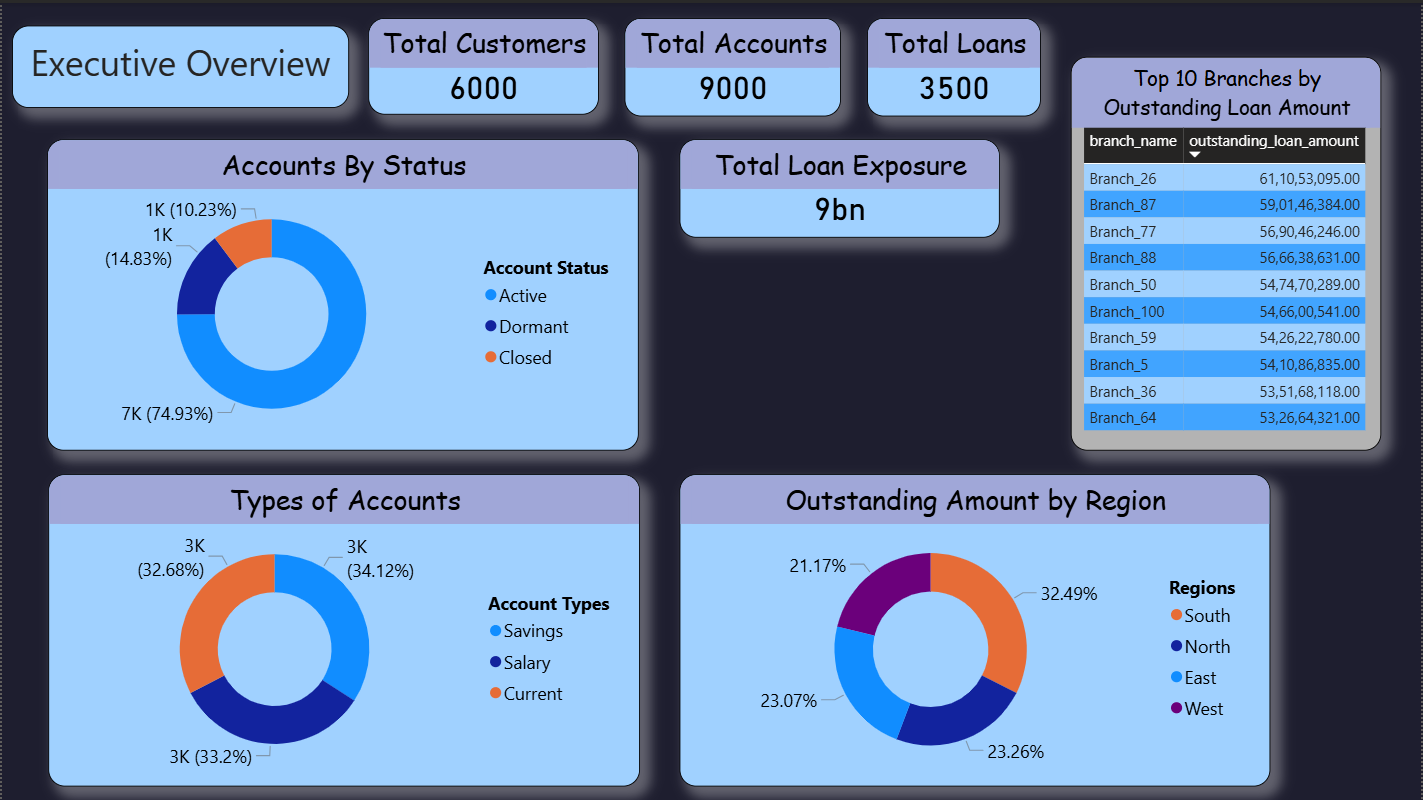

What the dashboard file says about the page in this screenshot:
{"tool":"powerbi","page":{"name":"Executive Overview","canvas":[1280,720],"ordinal":0},"visuals":[{"type":"card","title":"Total Loan Exposure","fields":{"Values":["Sum(bank_db loan_repayment_status.loan_amount)"]},"box":[956.1,15.2,288.7,87.4],"z":0},{"type":"card","title":"Total Loans","fields":{"Values":["Count(bank_db loan_repayment_status.loan_id)"]},"box":[780.1,13.9,157,88.6],"z":1000},{"type":"donutChart","title":"Accounts By Status","fields":{"Category":["bank_db acc_status.account_status"],"Y":["Sum(bank_db acc_status.count(*))"]},"box":[41.1,123.2,533.7,281.1],"z":2000},{"type":"donutChart","title":"Types of Accounts","fields":{"Category":["bank_db acc_type.account_type"],"Y":["Sum(bank_db acc_type.Count)"]},"box":[330.9,420.5,553.6,281.1],"z":3000},{"type":"textbox","box":[8.9,20.3,303.9,74.7],"z":4000},{"type":"card","title":"Total Customers","fields":{"Values":["CountNonNull(bank_db bank_customers.customer_id)"]},"box":[330.5,13.9,207.7,87.4],"z":5000},{"type":"card","title":"Total Accounts","fields":{"Values":["Sum(bank_db acc_type.Count)"]},"box":[561,13.9,195,88.6],"z":6000},{"type":"tableEx","title":"Branches wise Outstanding Loan Amount","fields":{"Values":["bank_db outstanding_amt_by_branch.branch_name","bank_db outstanding_amt_by_branch.outstanding_loan_amount"]},"box":[951.6,123.2,293.6,567.2],"z":8000}]}

Visuals, with their boxes in screenshot pixels (x1, y1, x2, y2), scaled from the page's 1280x720 canvas onto the 1423x800 screenshot:
"Total Loan Exposure" card: bbox=[1063, 17, 1384, 114]
"Total Loans" card: bbox=[867, 15, 1042, 114]
"Accounts By Status" donutChart: bbox=[46, 137, 639, 449]
"Types of Accounts" donutChart: bbox=[368, 467, 983, 780]
textbox: bbox=[10, 23, 348, 106]
"Total Customers" card: bbox=[367, 15, 598, 113]
"Total Accounts" card: bbox=[624, 15, 840, 114]
"Branches wise Outstanding Loan Amount" tableEx: bbox=[1058, 137, 1384, 767]
